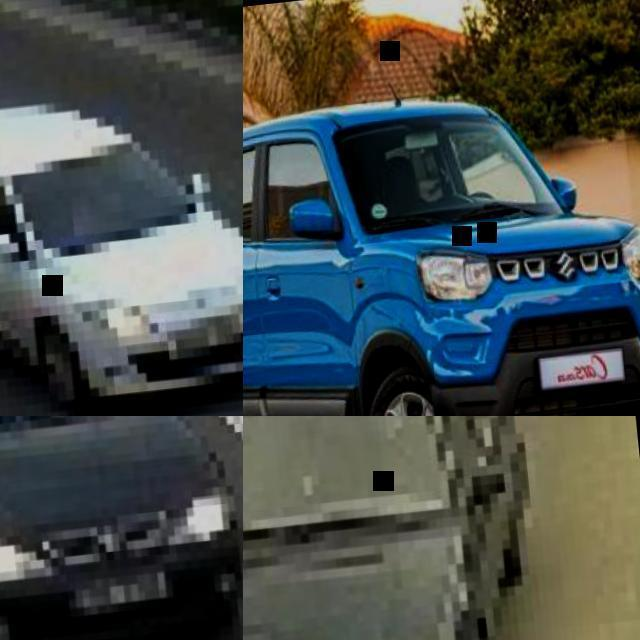car: (238, 93, 634, 416), (0, 106, 234, 402), (2, 417, 237, 632)
